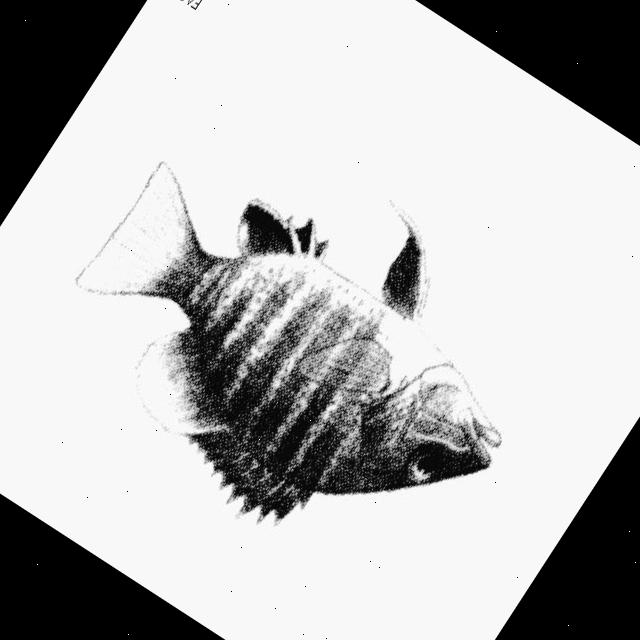ikan: (13, 80, 581, 620)
